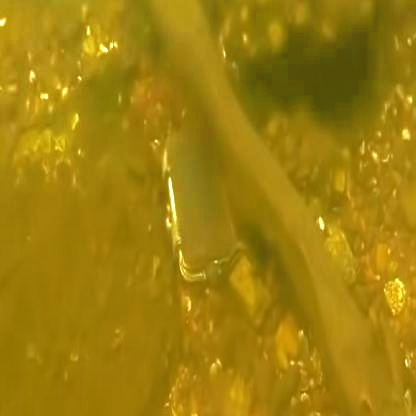electronics: (143, 82, 252, 304)
